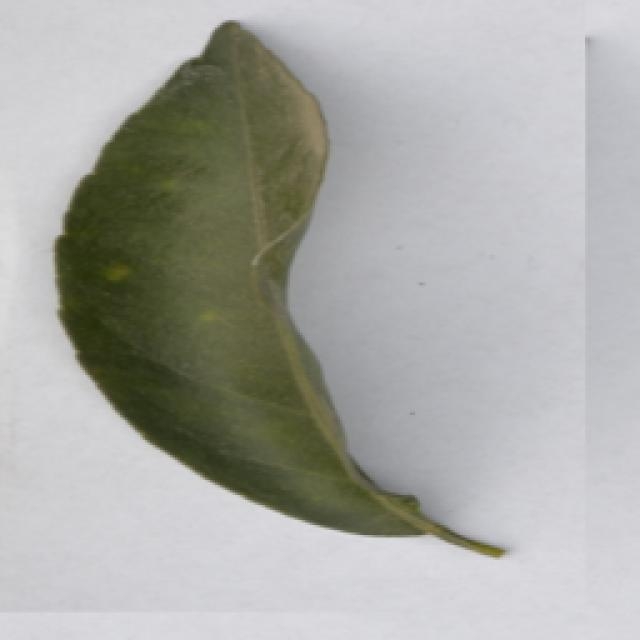healthy: (52, 18, 500, 568)
